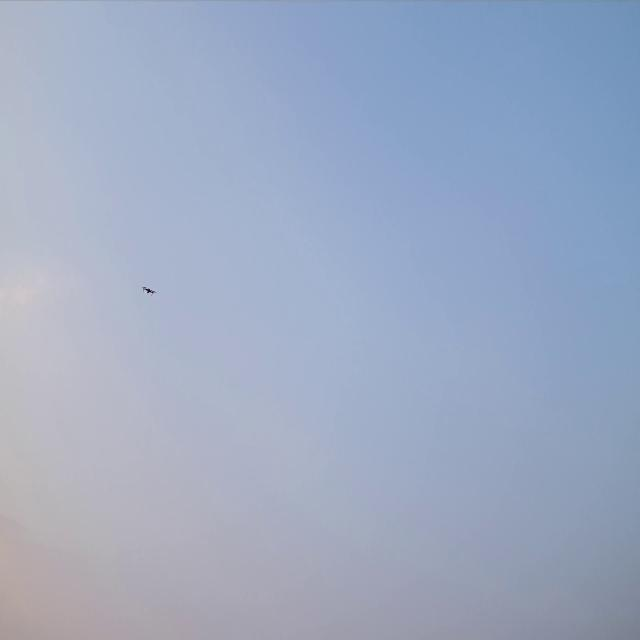UAV: (140, 285, 156, 297)
